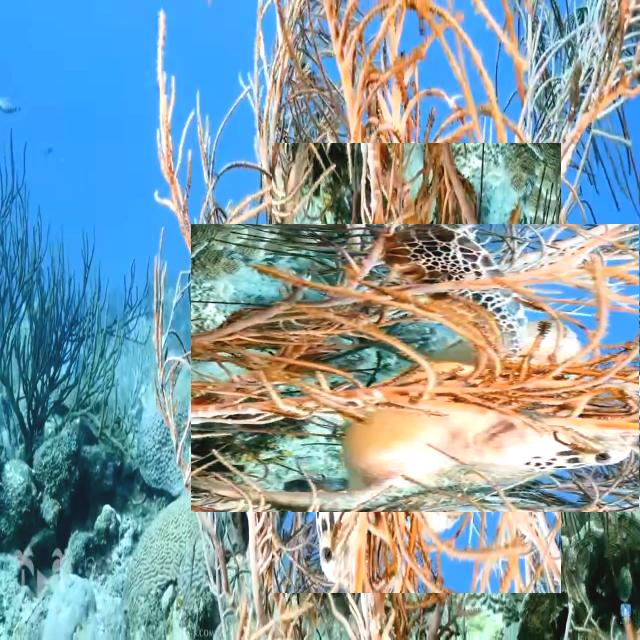Sea turtle: (232, 183, 601, 553)
